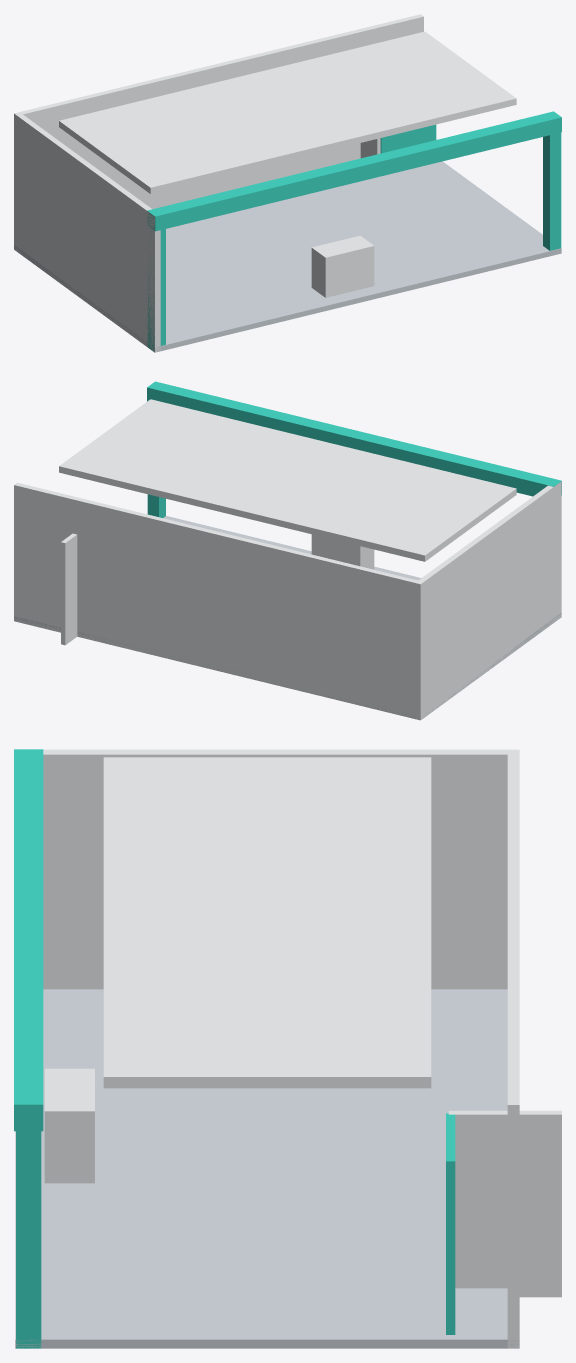
3 views of the same model, one above another, from view 1: azimuth 30°, elevation 25°; view 2: azimuth 150°, elevation 25°; view 3: azimuth 270°, elevation 25° (orthographic). The views are drawn at different scales.
Parts seen in each view (by area): view 1: Exhibition Booth Concept; view 2: Exhibition Booth Concept; view 3: Exhibition Booth Concept.
Part boxes in pixels (<box>): Exhibition Booth Concept: <box>14,14,561,352</box>; Exhibition Booth Concept: <box>14,381,561,720</box>; Exhibition Booth Concept: <box>14,749,561,1348</box>.
Bounding box in the file's own units: 10 × 3.34 × 6.52.
